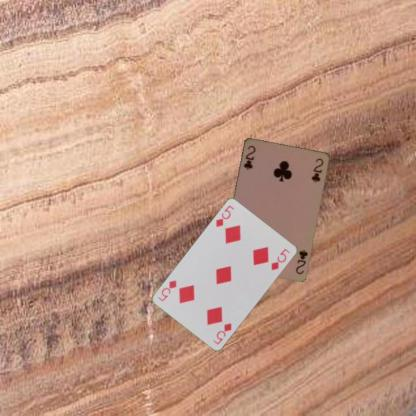2c: (241, 143, 257, 171), (293, 247, 308, 275)
5d: (213, 203, 236, 229), (210, 321, 233, 346)
